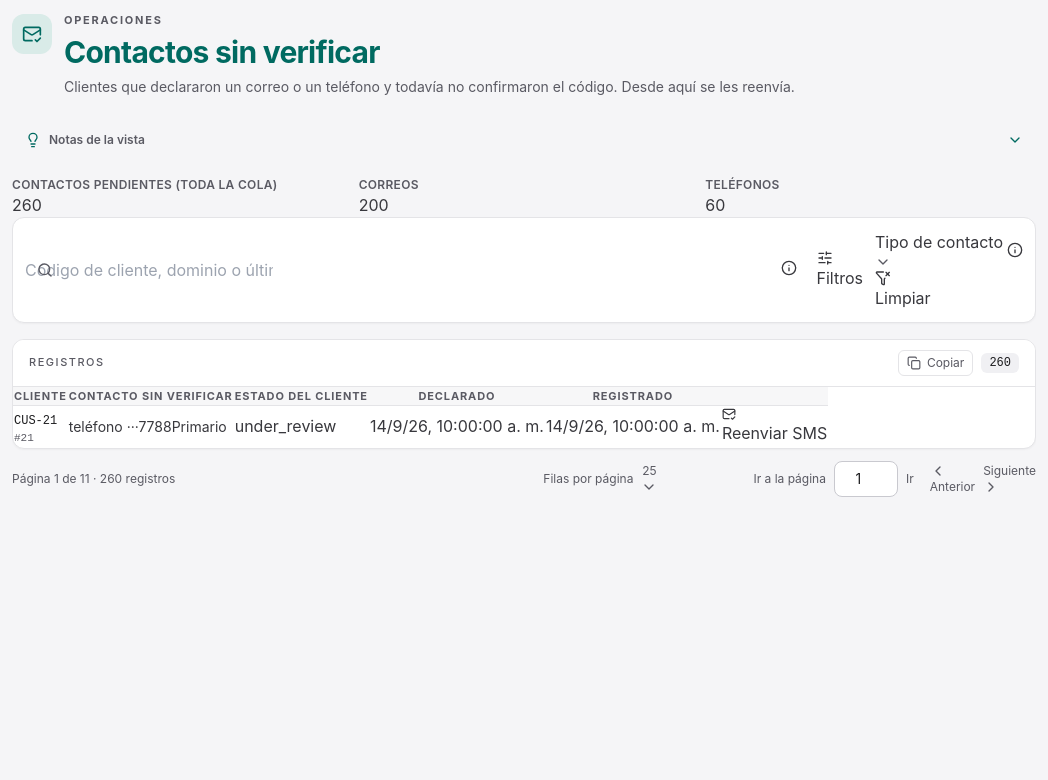
Test case: PendingContactsPage · el aviso del reenvío dice lo que pasó › con deliveryStatus=delivery_failed NO dice «reenviado»: dice que no llegó
Click the button "Reenviar SMS": (775, 426) [722,407,827,445]
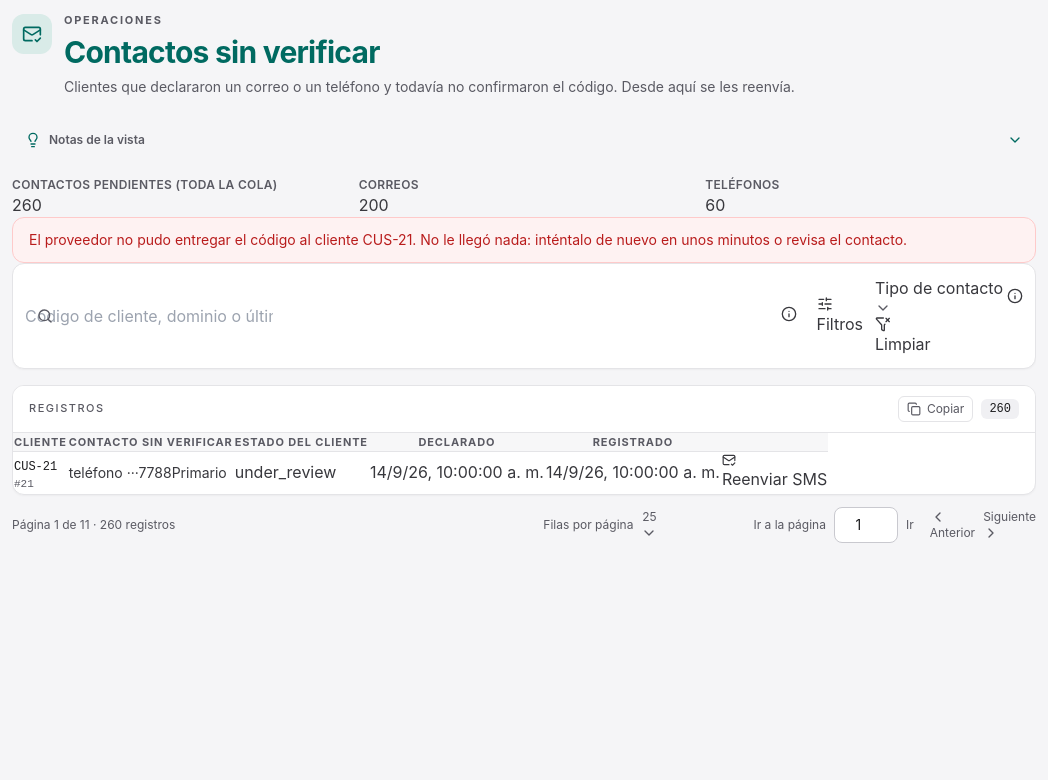
Now the message shows "El proveedor no pudo entregar el código", box [29,230,907,248]
